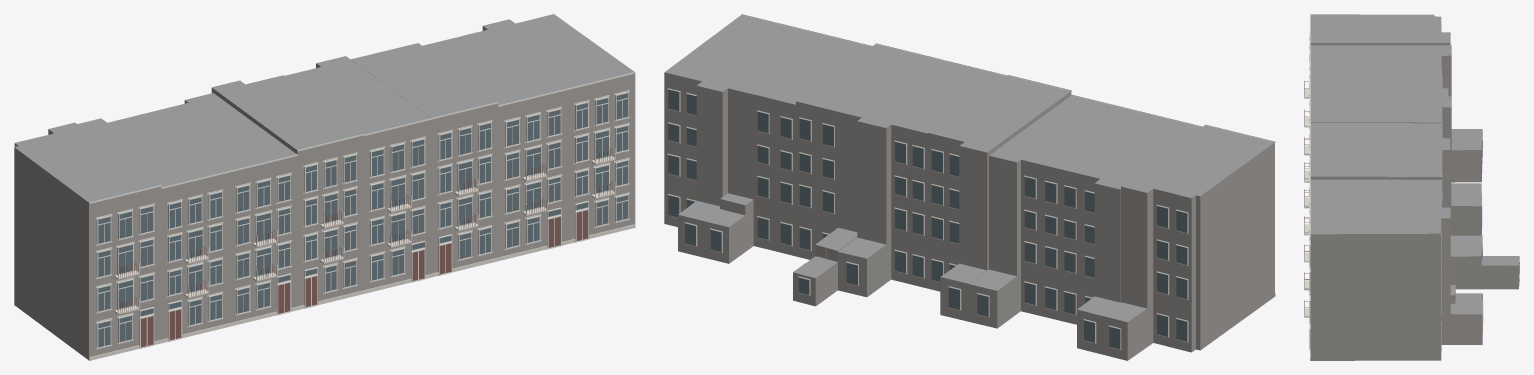
The model's file is chunk-face-maes-31-71-r1.glb.
3 views of the same model, side by side, from view 1: azimuth 30°, elevation 25°; view 2: azimuth 150°, elevation 25°; view 3: azimuth 270°, elevation 25° (orthographic). The views are drawn at different scales.
Parts seen in each view (by area): view 1: face-maes-31-71-r1; view 2: face-maes-31-71-r1; view 3: face-maes-31-71-r1.
Boxes of the visible parts, left/top/right/bottom form: face-maes-31-71-r1: left=14, top=14, right=635, bottom=360; face-maes-31-71-r1: left=664, top=14, right=1275, bottom=360; face-maes-31-71-r1: left=1304, top=14, right=1519, bottom=360.
Bounding box in the file's own units: 50.36 × 14.09 × 21.1.
